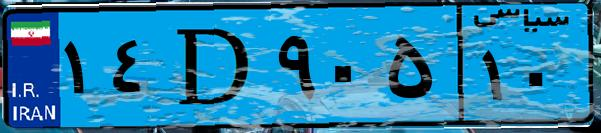0: (330, 28, 385, 110), (525, 38, 570, 115)
1: (57, 26, 110, 100), (475, 38, 525, 113)
4: (110, 28, 158, 98)
5: (385, 28, 445, 110)
9: (270, 28, 330, 110)
D: (158, 12, 270, 120)
